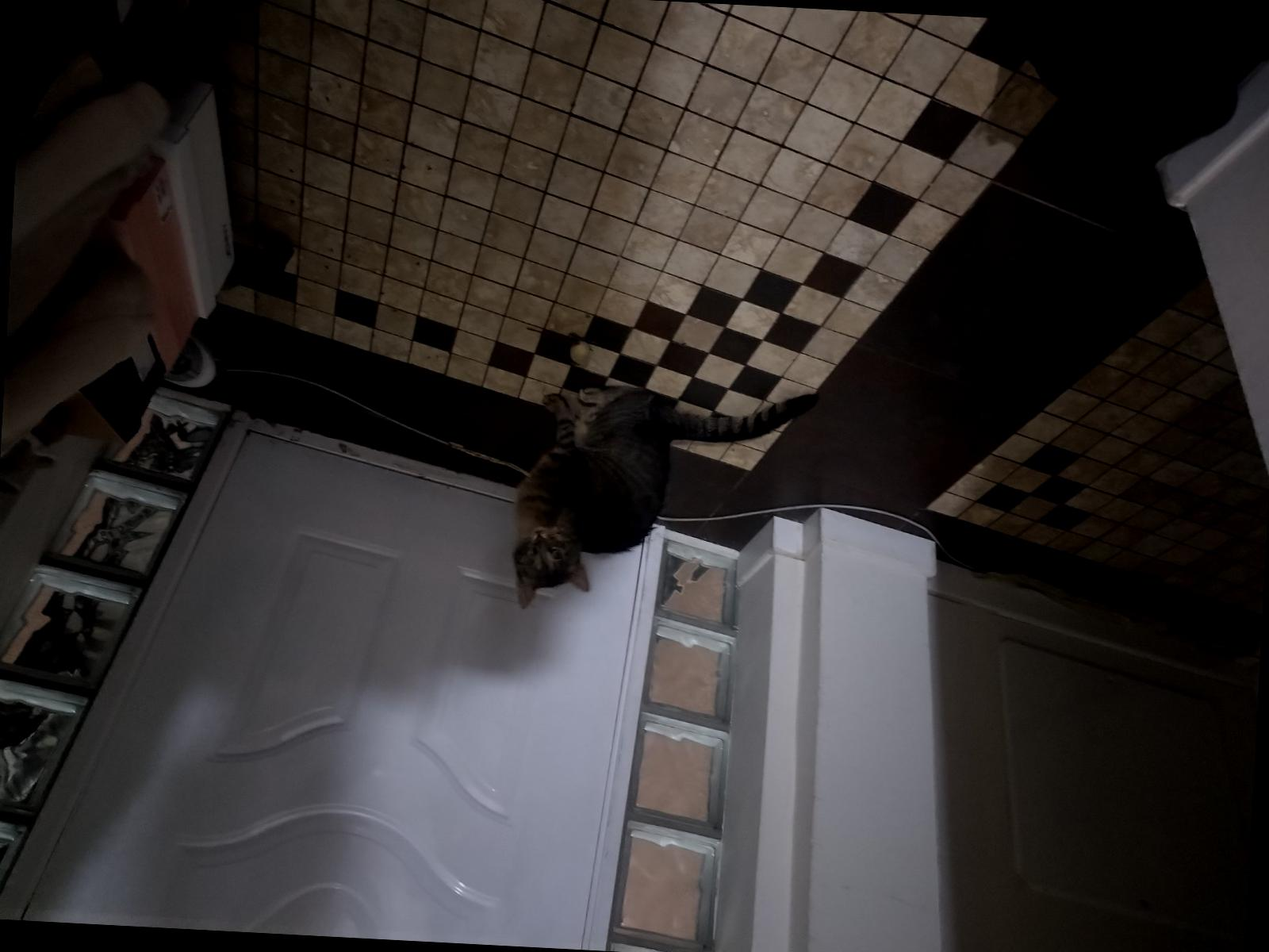macka: (507, 380, 817, 625)
